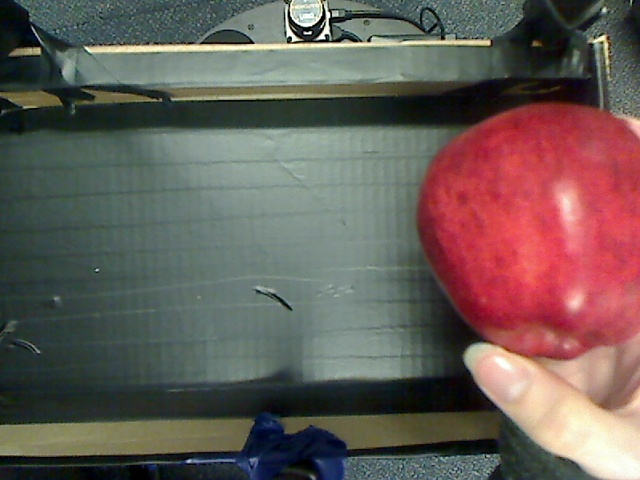apple: (404, 89, 640, 380)
